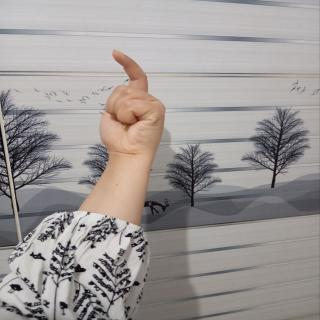RAA: (84, 43, 183, 169)
